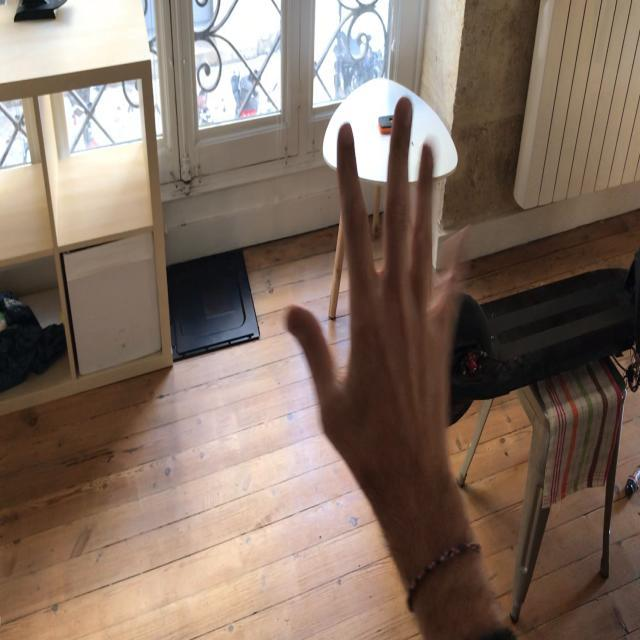no-gloves: (284, 94, 472, 476)
